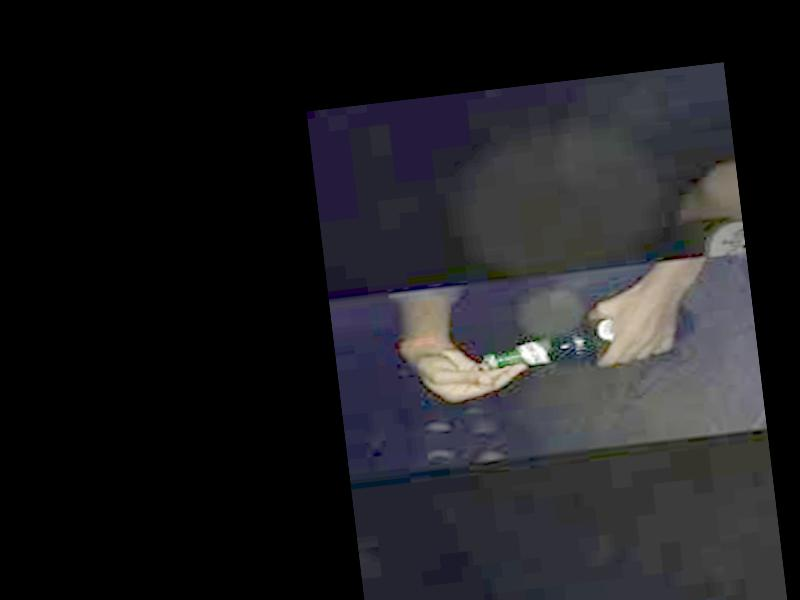Beer: (480, 299, 695, 375)
